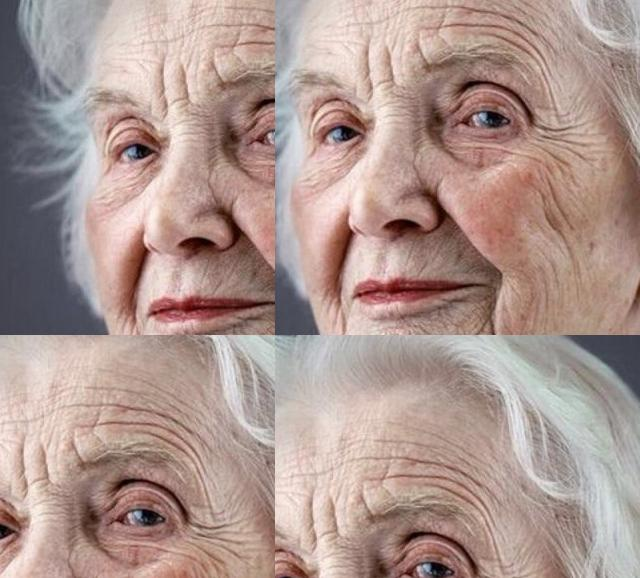bunny_line: (180, 156, 232, 193)
crows_feet: (0, 138, 41, 195), (468, 563, 525, 578)
forehead: (374, 445, 484, 493), (406, 78, 512, 120), (13, 0, 94, 40), (47, 456, 123, 490), (144, 454, 218, 480), (284, 456, 354, 482)
frown_line: (302, 495, 348, 554), (151, 38, 185, 100), (143, 119, 219, 145), (448, 126, 490, 160), (150, 491, 173, 533)
gummy_smile: (62, 225, 113, 335), (501, 246, 531, 296), (405, 263, 425, 301)
masseter: (0, 204, 33, 285)
smoker_lines: (174, 302, 194, 335)
